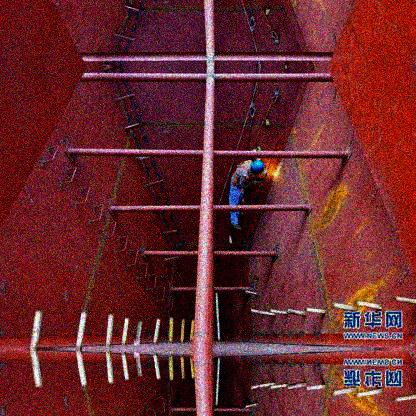helmet: (248, 158, 265, 175)
